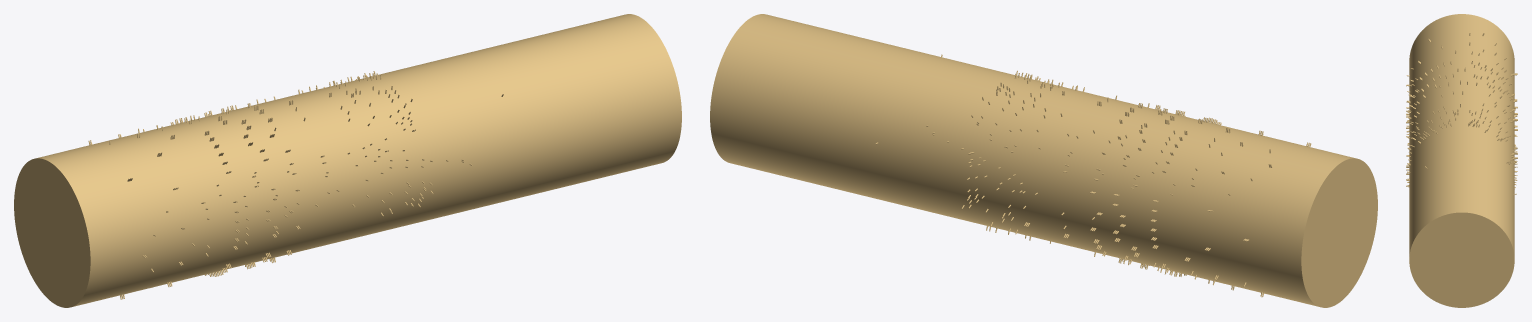
File: Fur-Elise-three-parts.glb
The picture shows the model from 3 angles, left to right: view 1: azimuth 30°, elevation 25°; view 2: azimuth 150°, elevation 25°; view 3: azimuth 270°, elevation 25°; orthographic projection. The views are drawn at different scales.
Parts seen in each view (by area): view 1: cylinder_body; view 2: cylinder_body; view 3: cylinder_body.
Boxes of the visible parts, x1=… form: cylinder_body: x1=14, y1=14, x2=681, y2=307; cylinder_body: x1=710, y1=14, x2=1377, y2=307; cylinder_body: x1=1409, y1=14, x2=1514, y2=307.
Size of the model in its own units: 0.214 by 0.051 by 0.051.
